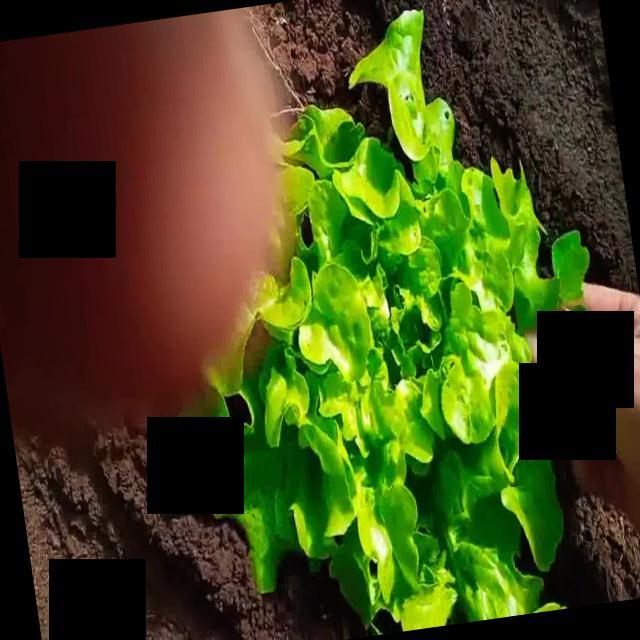Lettuce: (198, 12, 578, 624)
